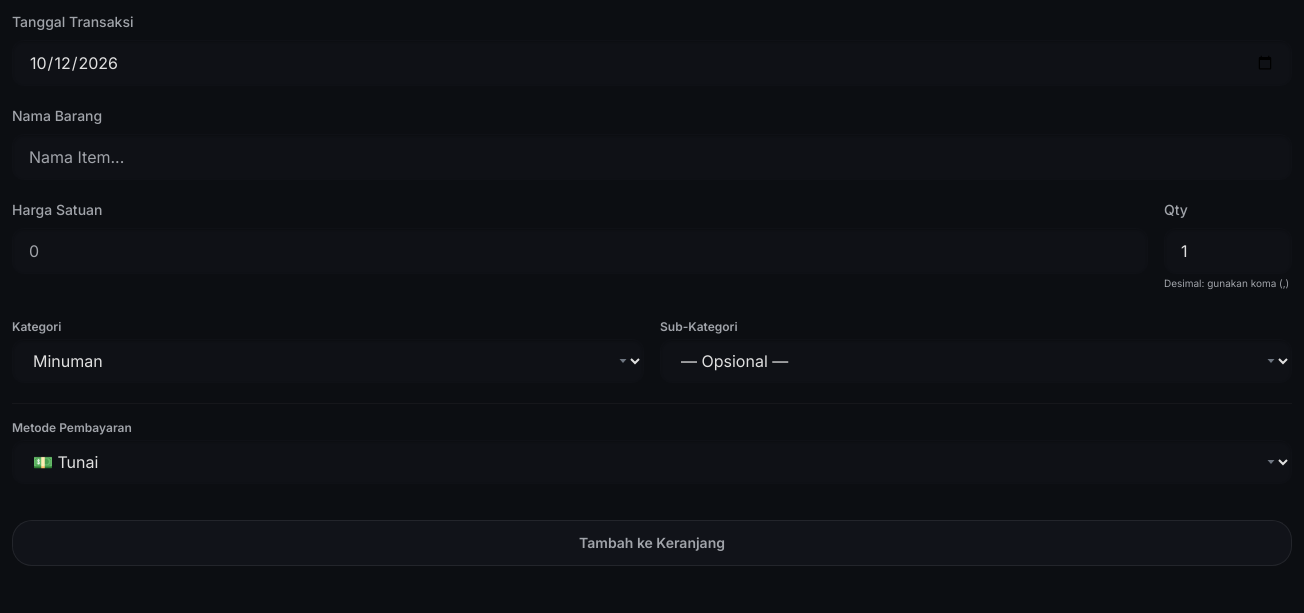
Test: ManualItemForm — Inline Syntax Integration (Bug #14 / Refactor-01) › renders quick syntax preview when user types inline syntax
Type "Susu 2x @15000" into the field with placeholder "Nama Item..." at (652, 157), box [12,134,1292,180]
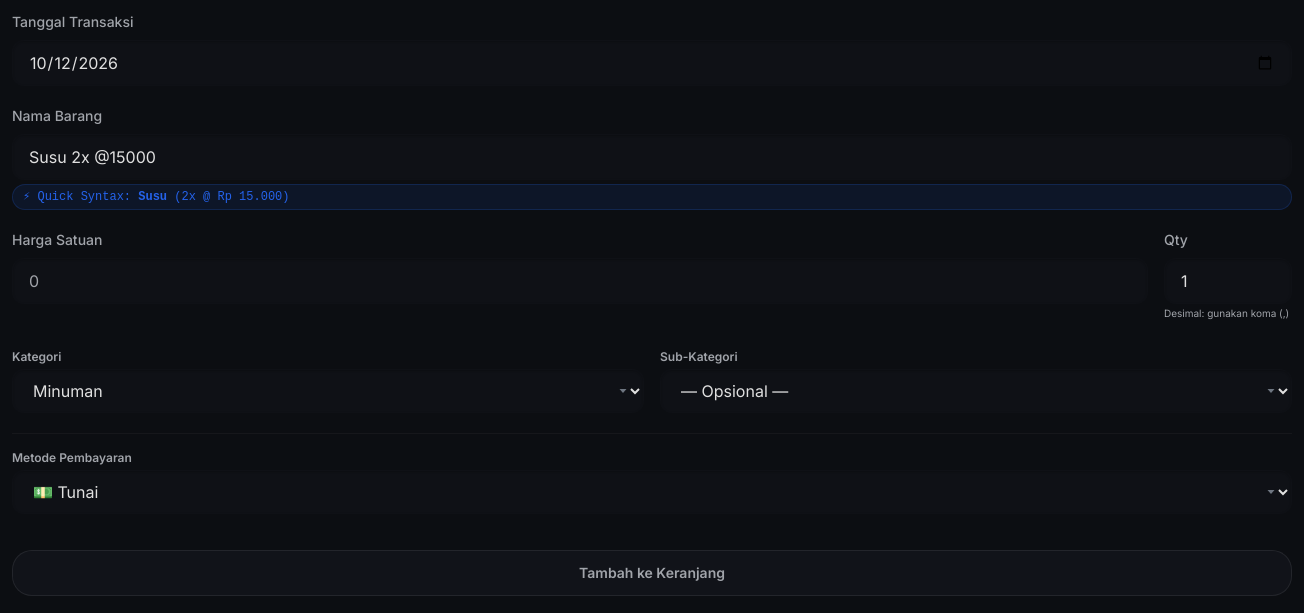
Result: the text "⚡ Quick Syntax: Susu (2x @ Rp 15.000)" is shown at [12,184,1292,210]
Result: the text "Susu" is shown at [138,190,167,204]
